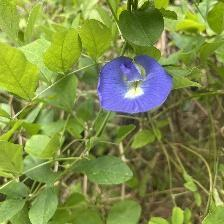shankupushpam: (95, 54, 176, 118)
